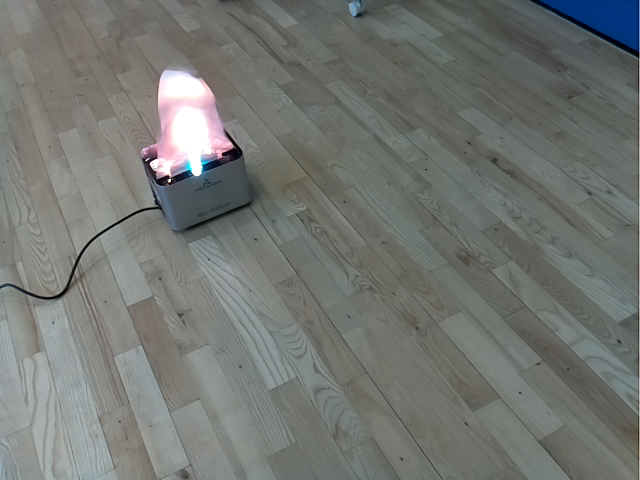fire: (150, 67, 233, 178)
